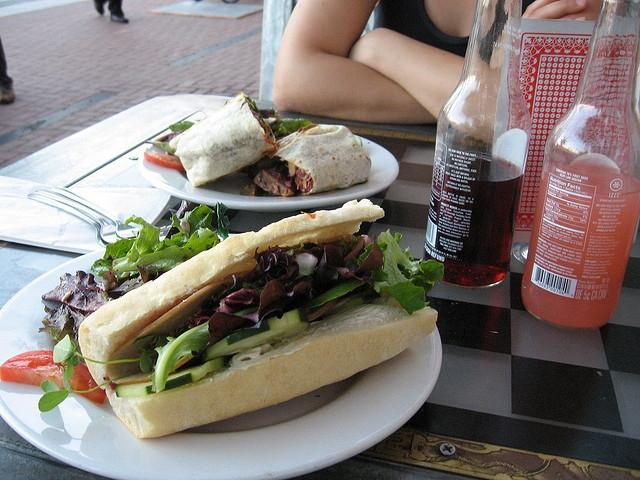tomato: (0, 350, 106, 405), (143, 152, 184, 170)
